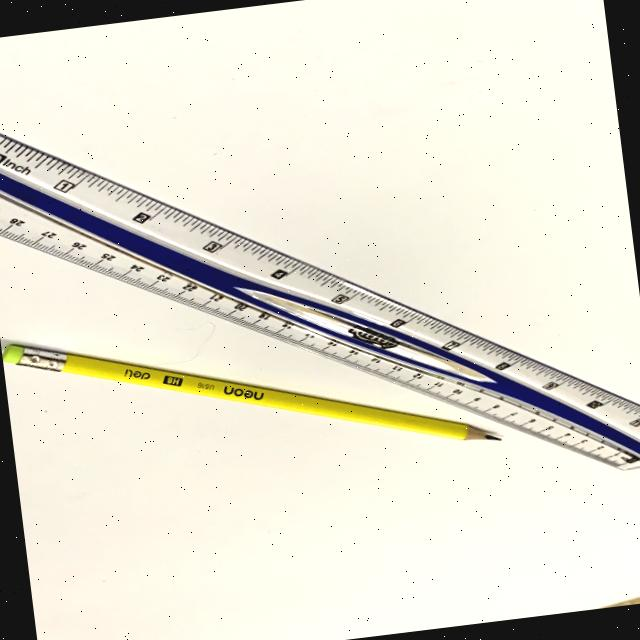Pencil: (2, 324, 522, 450)
Scale: (0, 129, 640, 482)
